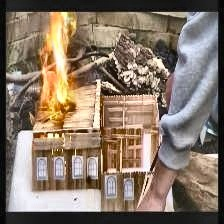fire: (38, 11, 77, 116)
